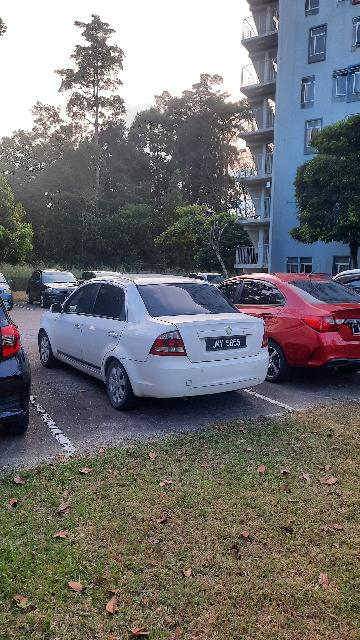License_Plate: (205, 337, 253, 353)
car: (37, 275, 272, 413)
